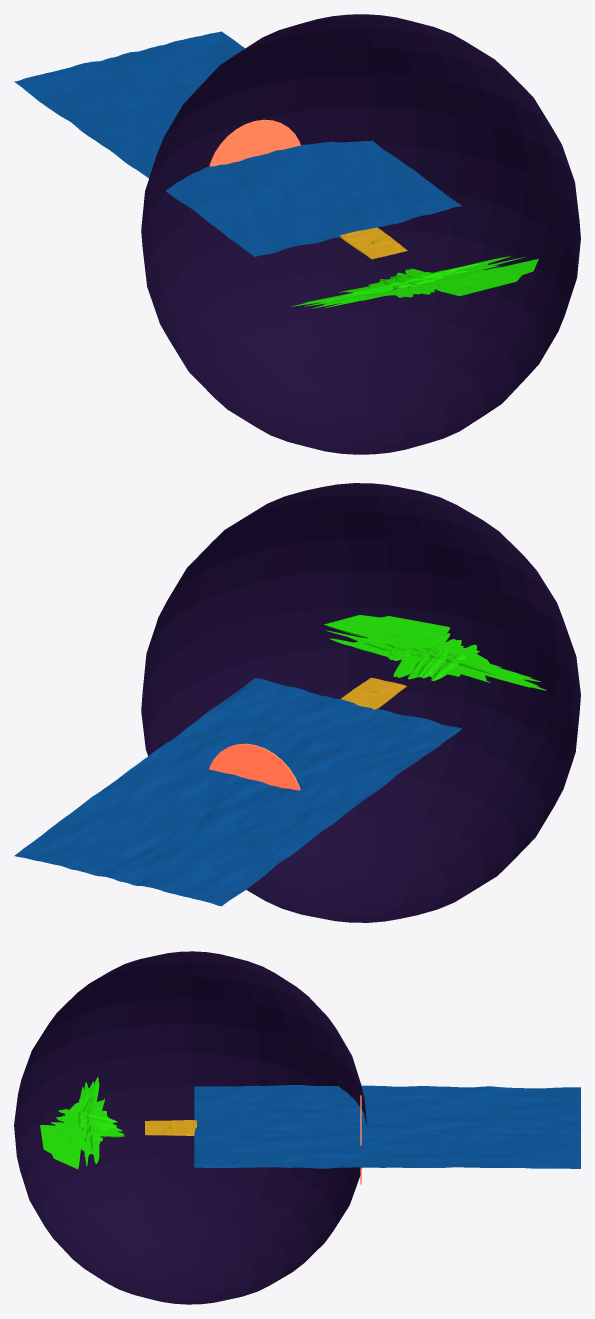
File: backdrop.glb
The picture shows the model from 3 angles, top to bottom: view 1: azimuth 30°, elevation 25°; view 2: azimuth 150°, elevation 25°; view 3: azimuth 270°, elevation 25°; orthographic projection. The views are drawn at different scales.
Visible parts, largest first — view 1: SkyDome, Sea, Sun, Hills.001, Hills.002, Beach, Hills; view 2: SkyDome, Sea, Hills.001, Sun, Hills.002, Hills, Beach; view 3: SkyDome, Sea, Hills.001, Hills.002, Hills, Beach.
Boxes of the visible parts, box(x1,y1,x2,y2) form: SkyDome: box(141, 14, 580, 454); Sea: box(14, 31, 461, 256); Sun: box(209, 119, 300, 166); Hills.001: box(394, 256, 538, 292); Hills.002: box(291, 265, 521, 306); Beach: box(339, 227, 407, 259); Hills: box(311, 269, 479, 308); SkyDome: box(141, 483, 580, 922); Sea: box(14, 678, 462, 906); Hills.001: box(324, 615, 458, 677); Sun: box(209, 743, 300, 790); Hills.002: box(381, 616, 546, 690); Hills: box(351, 623, 540, 681); Beach: box(341, 677, 406, 709); SkyDome: box(14, 951, 366, 1304); Sea: box(194, 1085, 580, 1168); Hills.001: box(44, 1116, 124, 1169); Hills.002: box(40, 1077, 122, 1156); Hills: box(43, 1082, 124, 1139); Beach: box(145, 1120, 197, 1135).
Bounding box in the file's own units: 2432 × 2431 × 3900.
